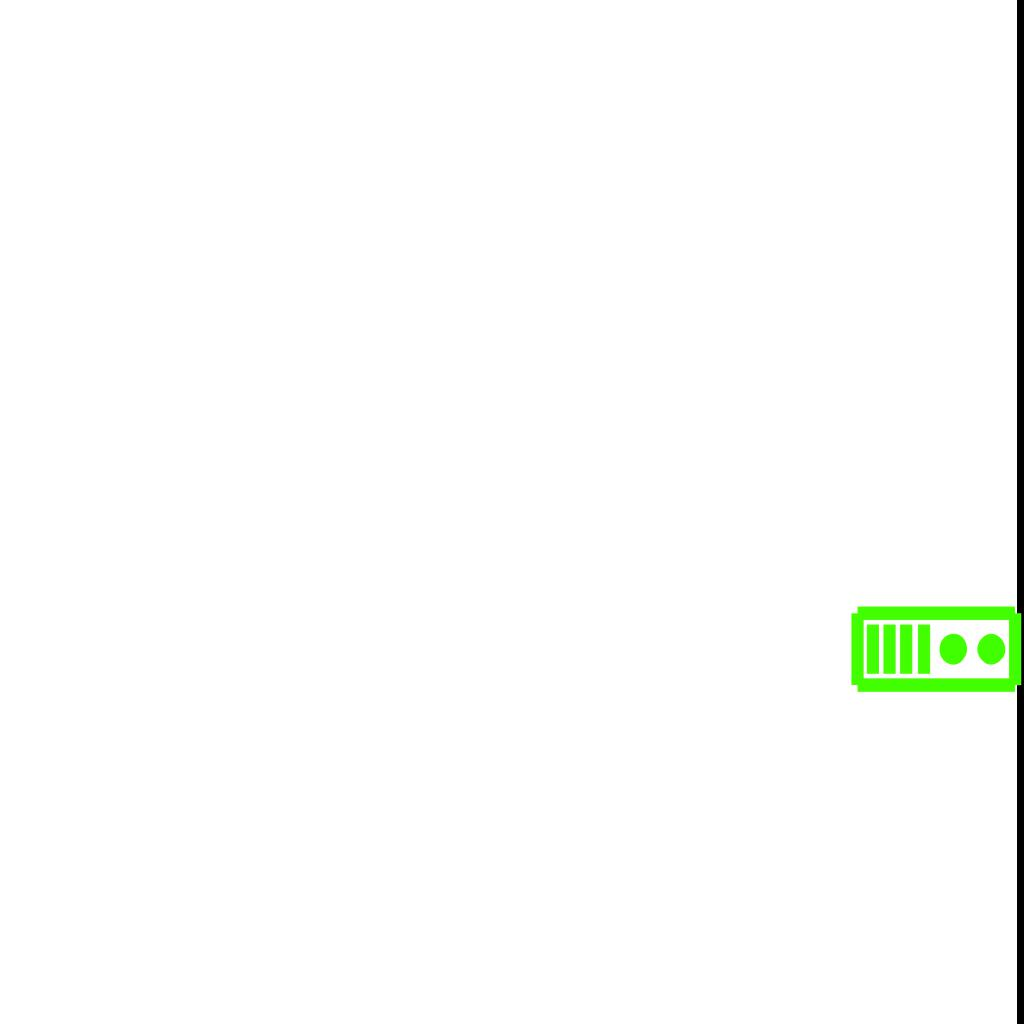Gegensprechanlage_mit_Video: (849, 600, 1024, 695)
